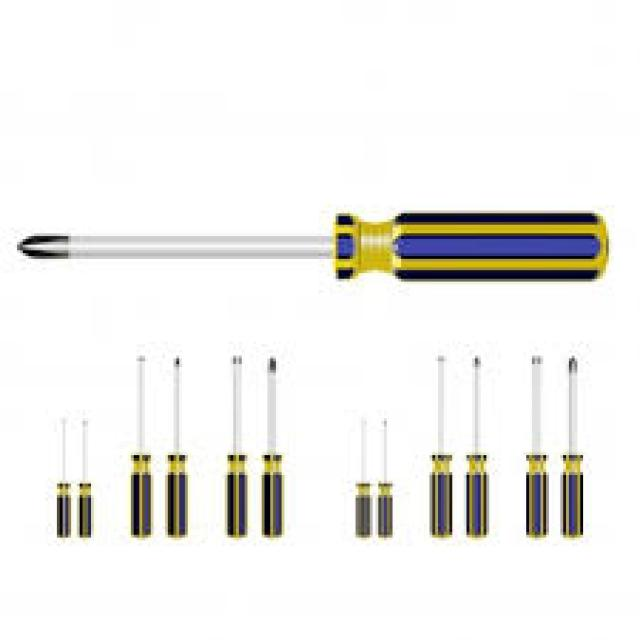screw driver: (0, 173, 640, 330)
